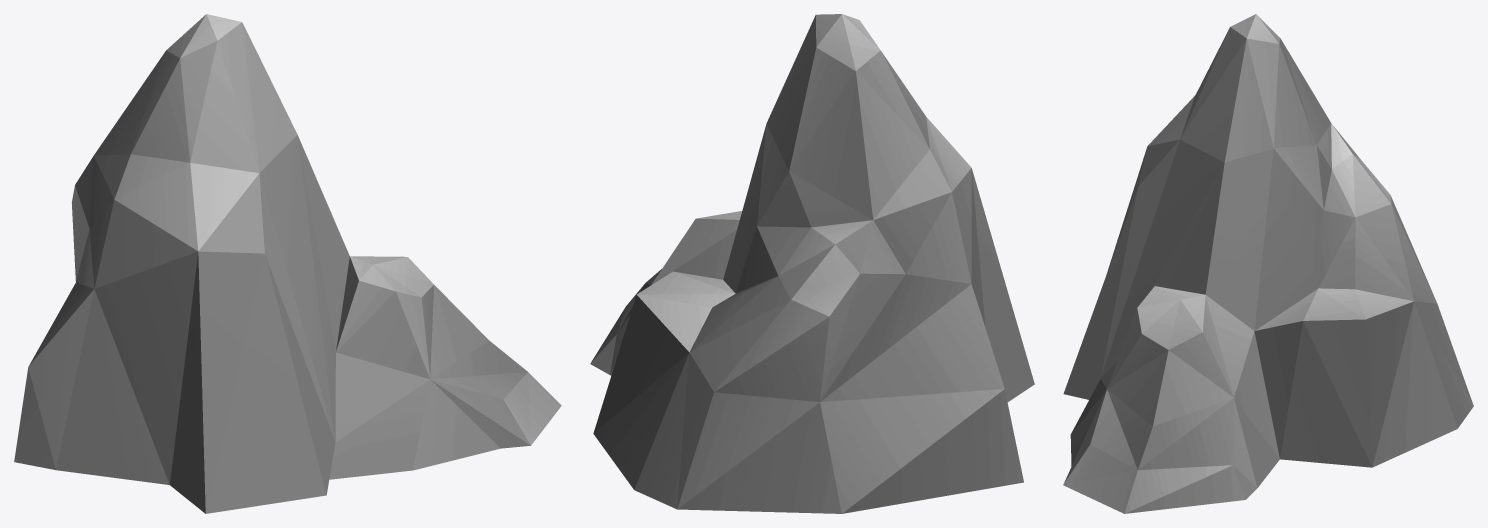
File: GL-Rock-07-LOD2.fbx
3 renders of one model, left to right at view 1: azimuth 30°, elevation 25°; view 2: azimuth 150°, elevation 25°; view 3: azimuth 270°, elevation 25°, orthographic. The views are drawn at different scales.
Visible parts, largest first — view 1: GL_Rock_07; view 2: GL_Rock_07; view 3: GL_Rock_07.
Boxes of the visible parts, box(x1,y1,x2,y2) form: GL_Rock_07: box(14, 14, 561, 513); GL_Rock_07: box(590, 14, 1034, 513); GL_Rock_07: box(1063, 14, 1473, 513).
Bounding box in the file's own units: 9.18 × 7.64 × 7.61.
